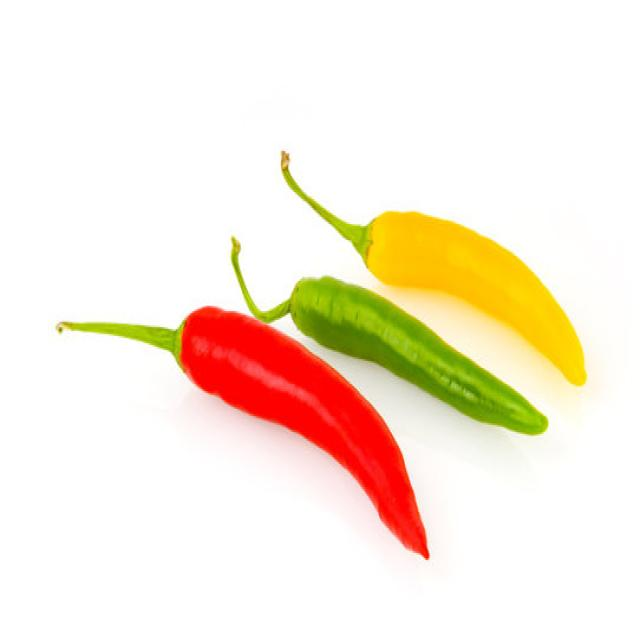Chilli: (54, 302, 430, 560), (279, 148, 587, 388), (229, 234, 549, 436)
